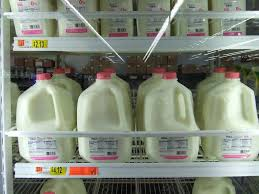milk: (143, 69, 201, 161), (78, 70, 133, 163), (19, 73, 76, 159), (206, 70, 259, 160), (52, 68, 82, 89), (205, 67, 218, 95)
